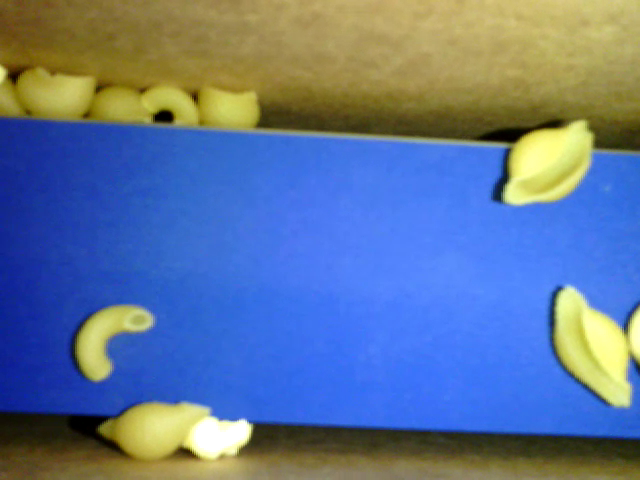elbow: (73, 304, 154, 382), (16, 66, 97, 119), (141, 82, 198, 125), (91, 84, 155, 121)
shell: (554, 282, 632, 410), (500, 118, 593, 206), (94, 401, 213, 462), (198, 84, 263, 130)
